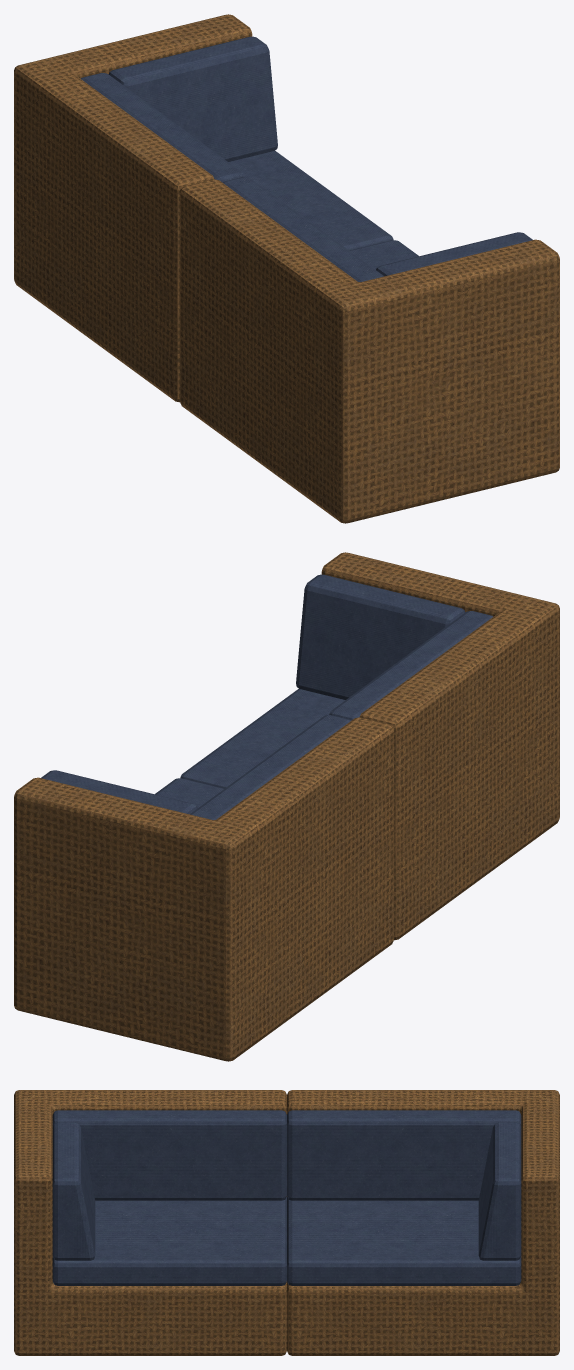
Rendered from sofa.fbx.
3 views of the same model, one above another, from view 1: azimuth 30°, elevation 25°; view 2: azimuth 150°, elevation 25°; view 3: azimuth 270°, elevation 25° (orthographic). The views are drawn at different scales.
Visible parts, largest first — view 1: Cube.008; view 2: Cube.008; view 3: Cube.008.
Boxes of the visible parts, bbox=[...] form: Cube.008: bbox=[14, 14, 559, 523]; Cube.008: bbox=[14, 552, 559, 1061]; Cube.008: bbox=[14, 1090, 559, 1355].
Bounding box in the file's own units: 71.67 × 68.61 × 187.
